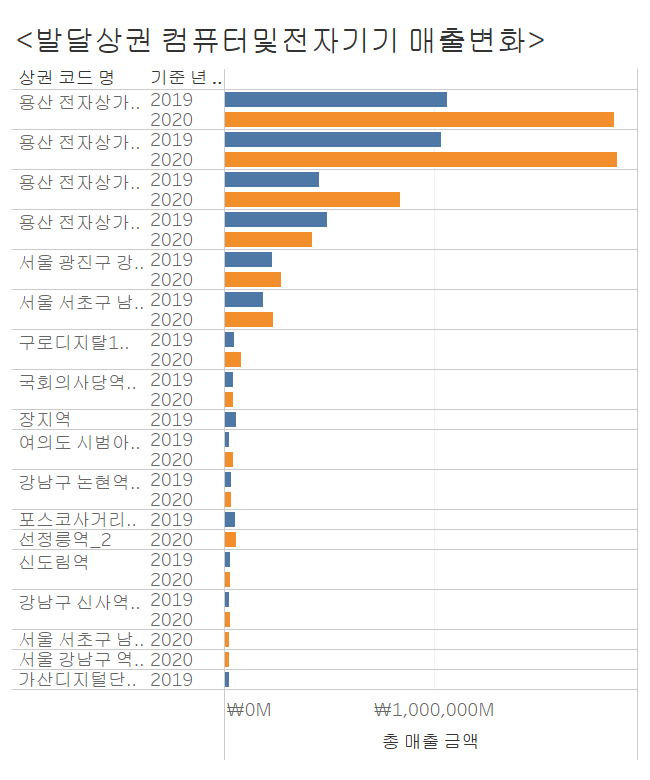

What the dashboard file says about the page in this screenshot:
{"tool":"tableau","page":{"name":"대시보드 3","canvas":[650,340],"ordinal":2},"visuals":[{"type":"worksheet","title":"2019-2020","mark":"Automatic","rows":["상권_구분_코드","상권_구분_코드_명","기준_년_코드"],"cols":["Calculation_1875467832722706446"],"box":[8,8,634,324]}]}

Visuals, with their boxes on the page's 650x340 design canvas (x1, y1, x2, y2). These are canvas units, not pixel positions in the 650x780 screenshot, which may show the page scaled, cropped or inside an application window:
"2019-2020" worksheet: x1=8 y1=8 x2=642 y2=332
